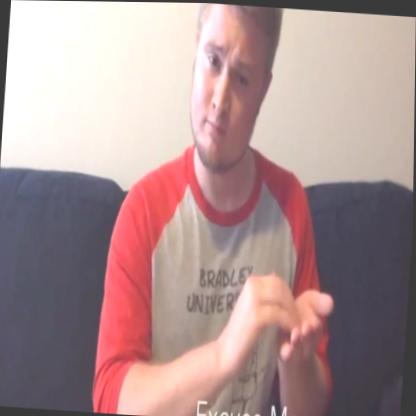ExcuseMe: (223, 255, 343, 400)
